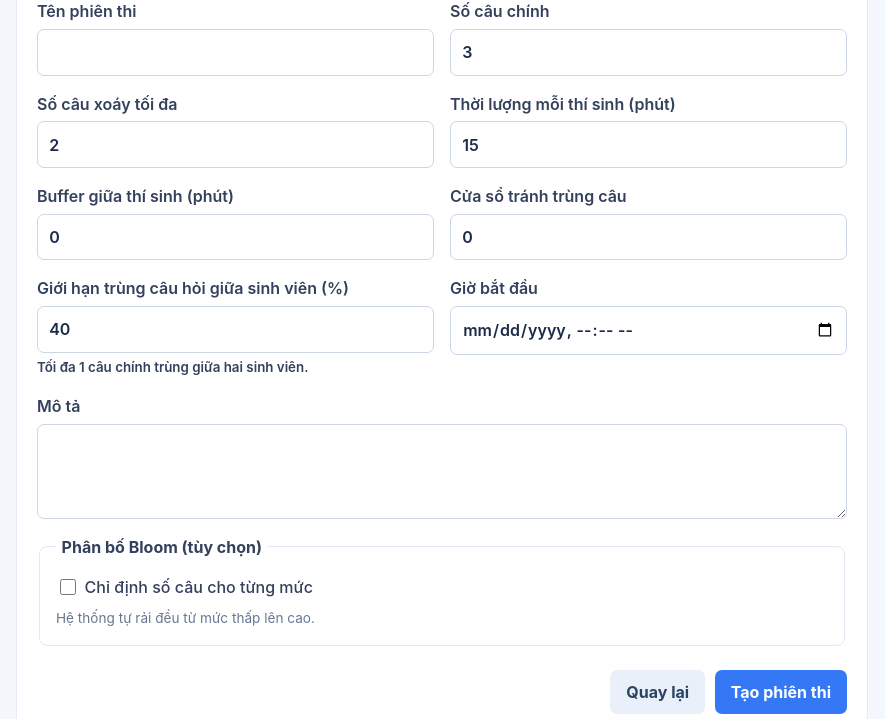
Scenario: CreateExamPage › validates a Bloom distribution against the main question count
(page scrolled)
Click the checkbox labelled "Chỉ định số câu cho từng mức" at (68, 587), box left=60, top=579, right=76, bottom=595
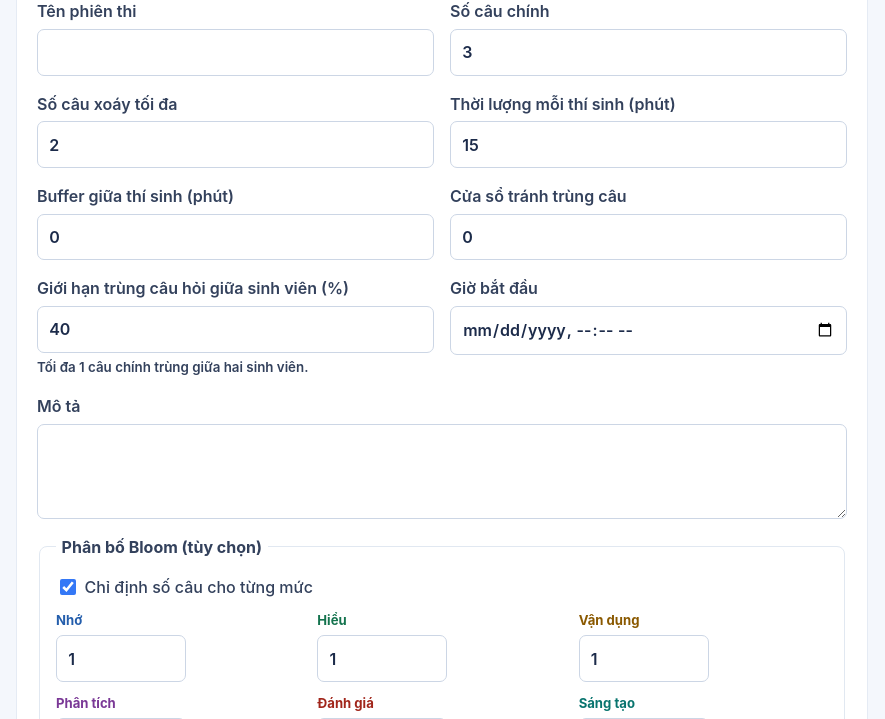
Replace the text in the number field named "Nhớ (REMEMBER)" with "0" at (121, 658), box left=56, top=635, right=186, bottom=682
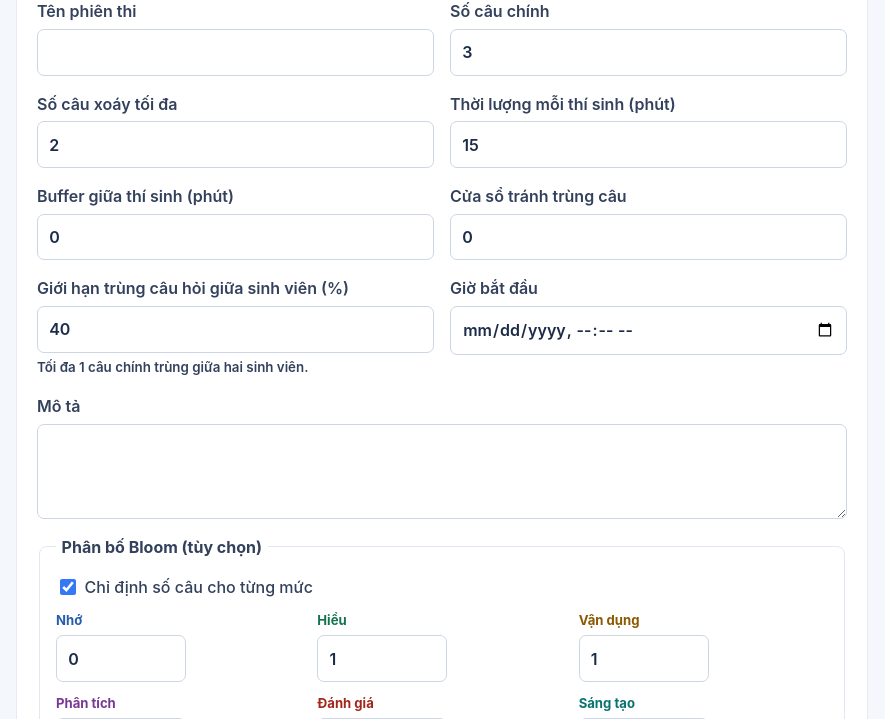
Replace the text in the number field named "Nhớ (REMEMBER)" with "3" at (121, 658), box left=56, top=635, right=186, bottom=682
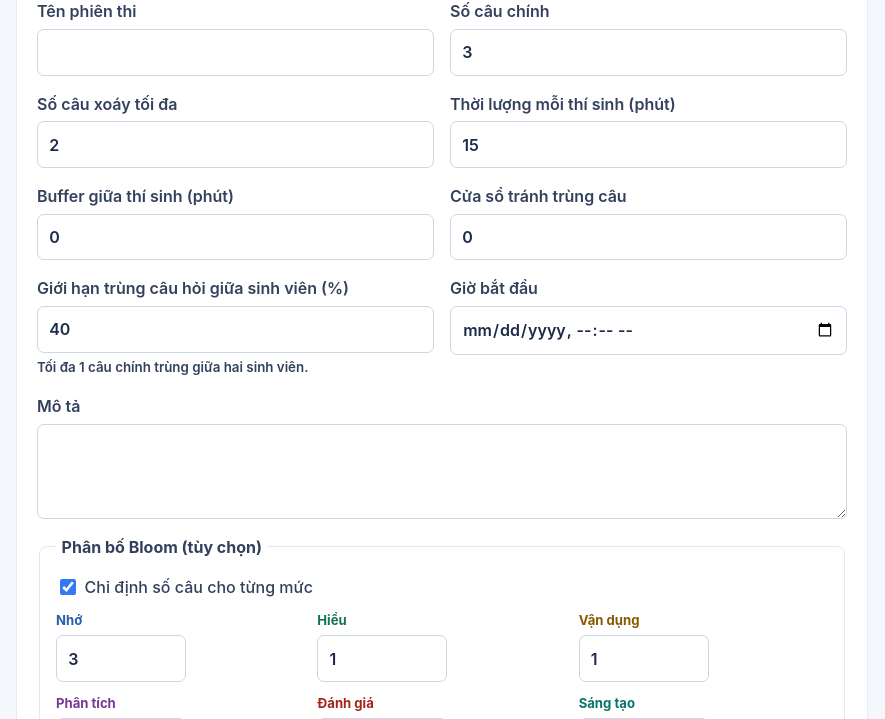
Replace the text in the number field named "Hiểu (UNDERSTAND)" with "0" at (382, 658), box left=317, top=635, right=447, bottom=682
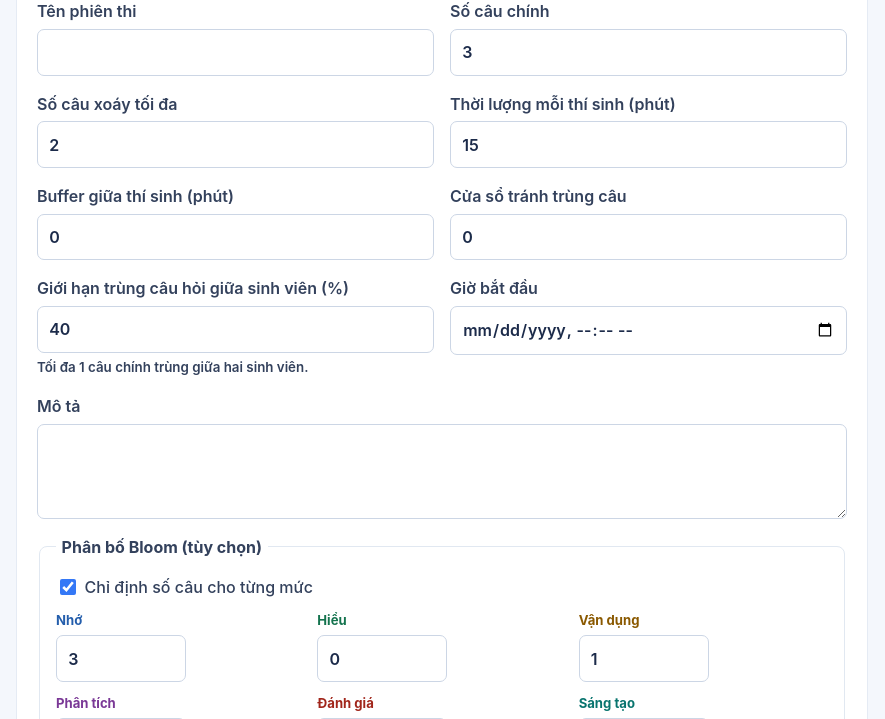
Replace the text in the number field named "Vận dụng (APPLY)" with "0" at (644, 658), box left=579, top=635, right=709, bottom=682
(page scrolled)
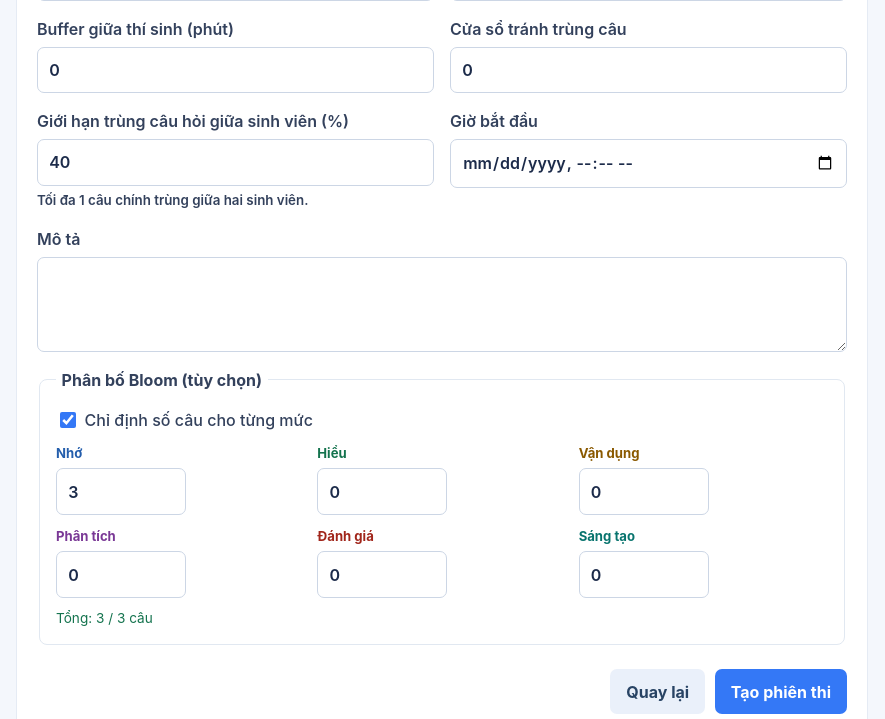
Check: the button "Tạo phiên thi" is enabled, box left=715, top=669, right=847, bottom=714
